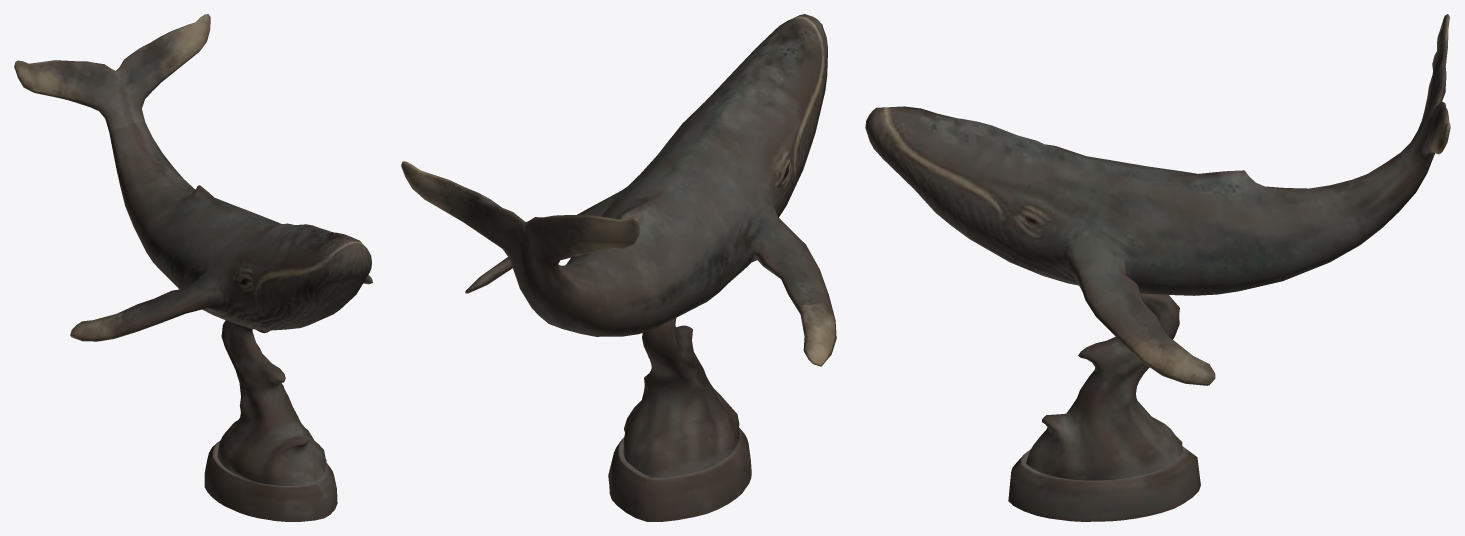
The model's file is whale.glb.
3 renders of one model, left to right at view 1: azimuth 30°, elevation 25°; view 2: azimuth 150°, elevation 25°; view 3: azimuth 270°, elevation 25°, orthographic. The views are drawn at different scales.
Parts seen in each view (by area): view 1: bronze_whale_statue; view 2: bronze_whale_statue; view 3: bronze_whale_statue.
Boxes of the visible parts, x1,y1,x2,y2 form: bronze_whale_statue: [14, 14, 372, 521]; bronze_whale_statue: [401, 14, 836, 521]; bronze_whale_statue: [865, 14, 1450, 521].
Bounding box in the file's own units: 0.9319 × 1.07 × 1.37.
Materials: 1 (1 with a texture image).
